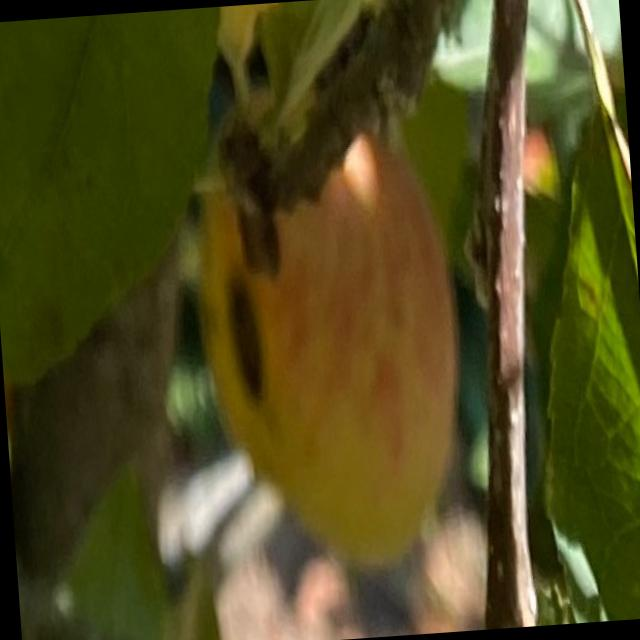Apples: (186, 90, 467, 580)
